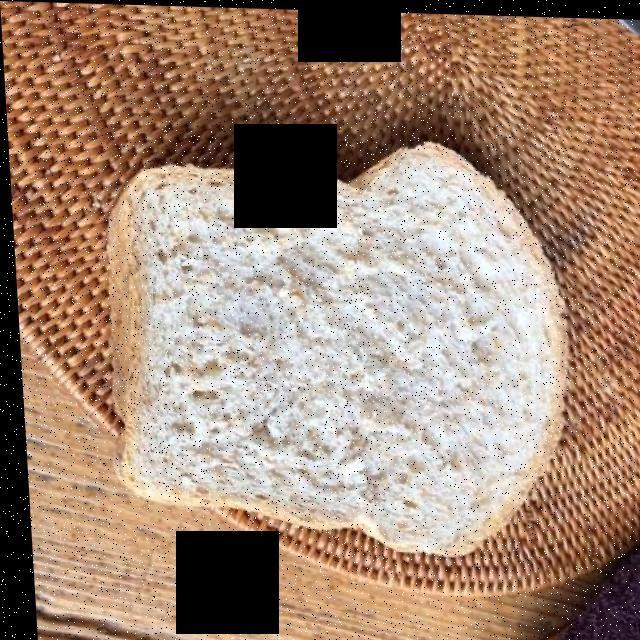bread: (109, 143, 559, 542)
